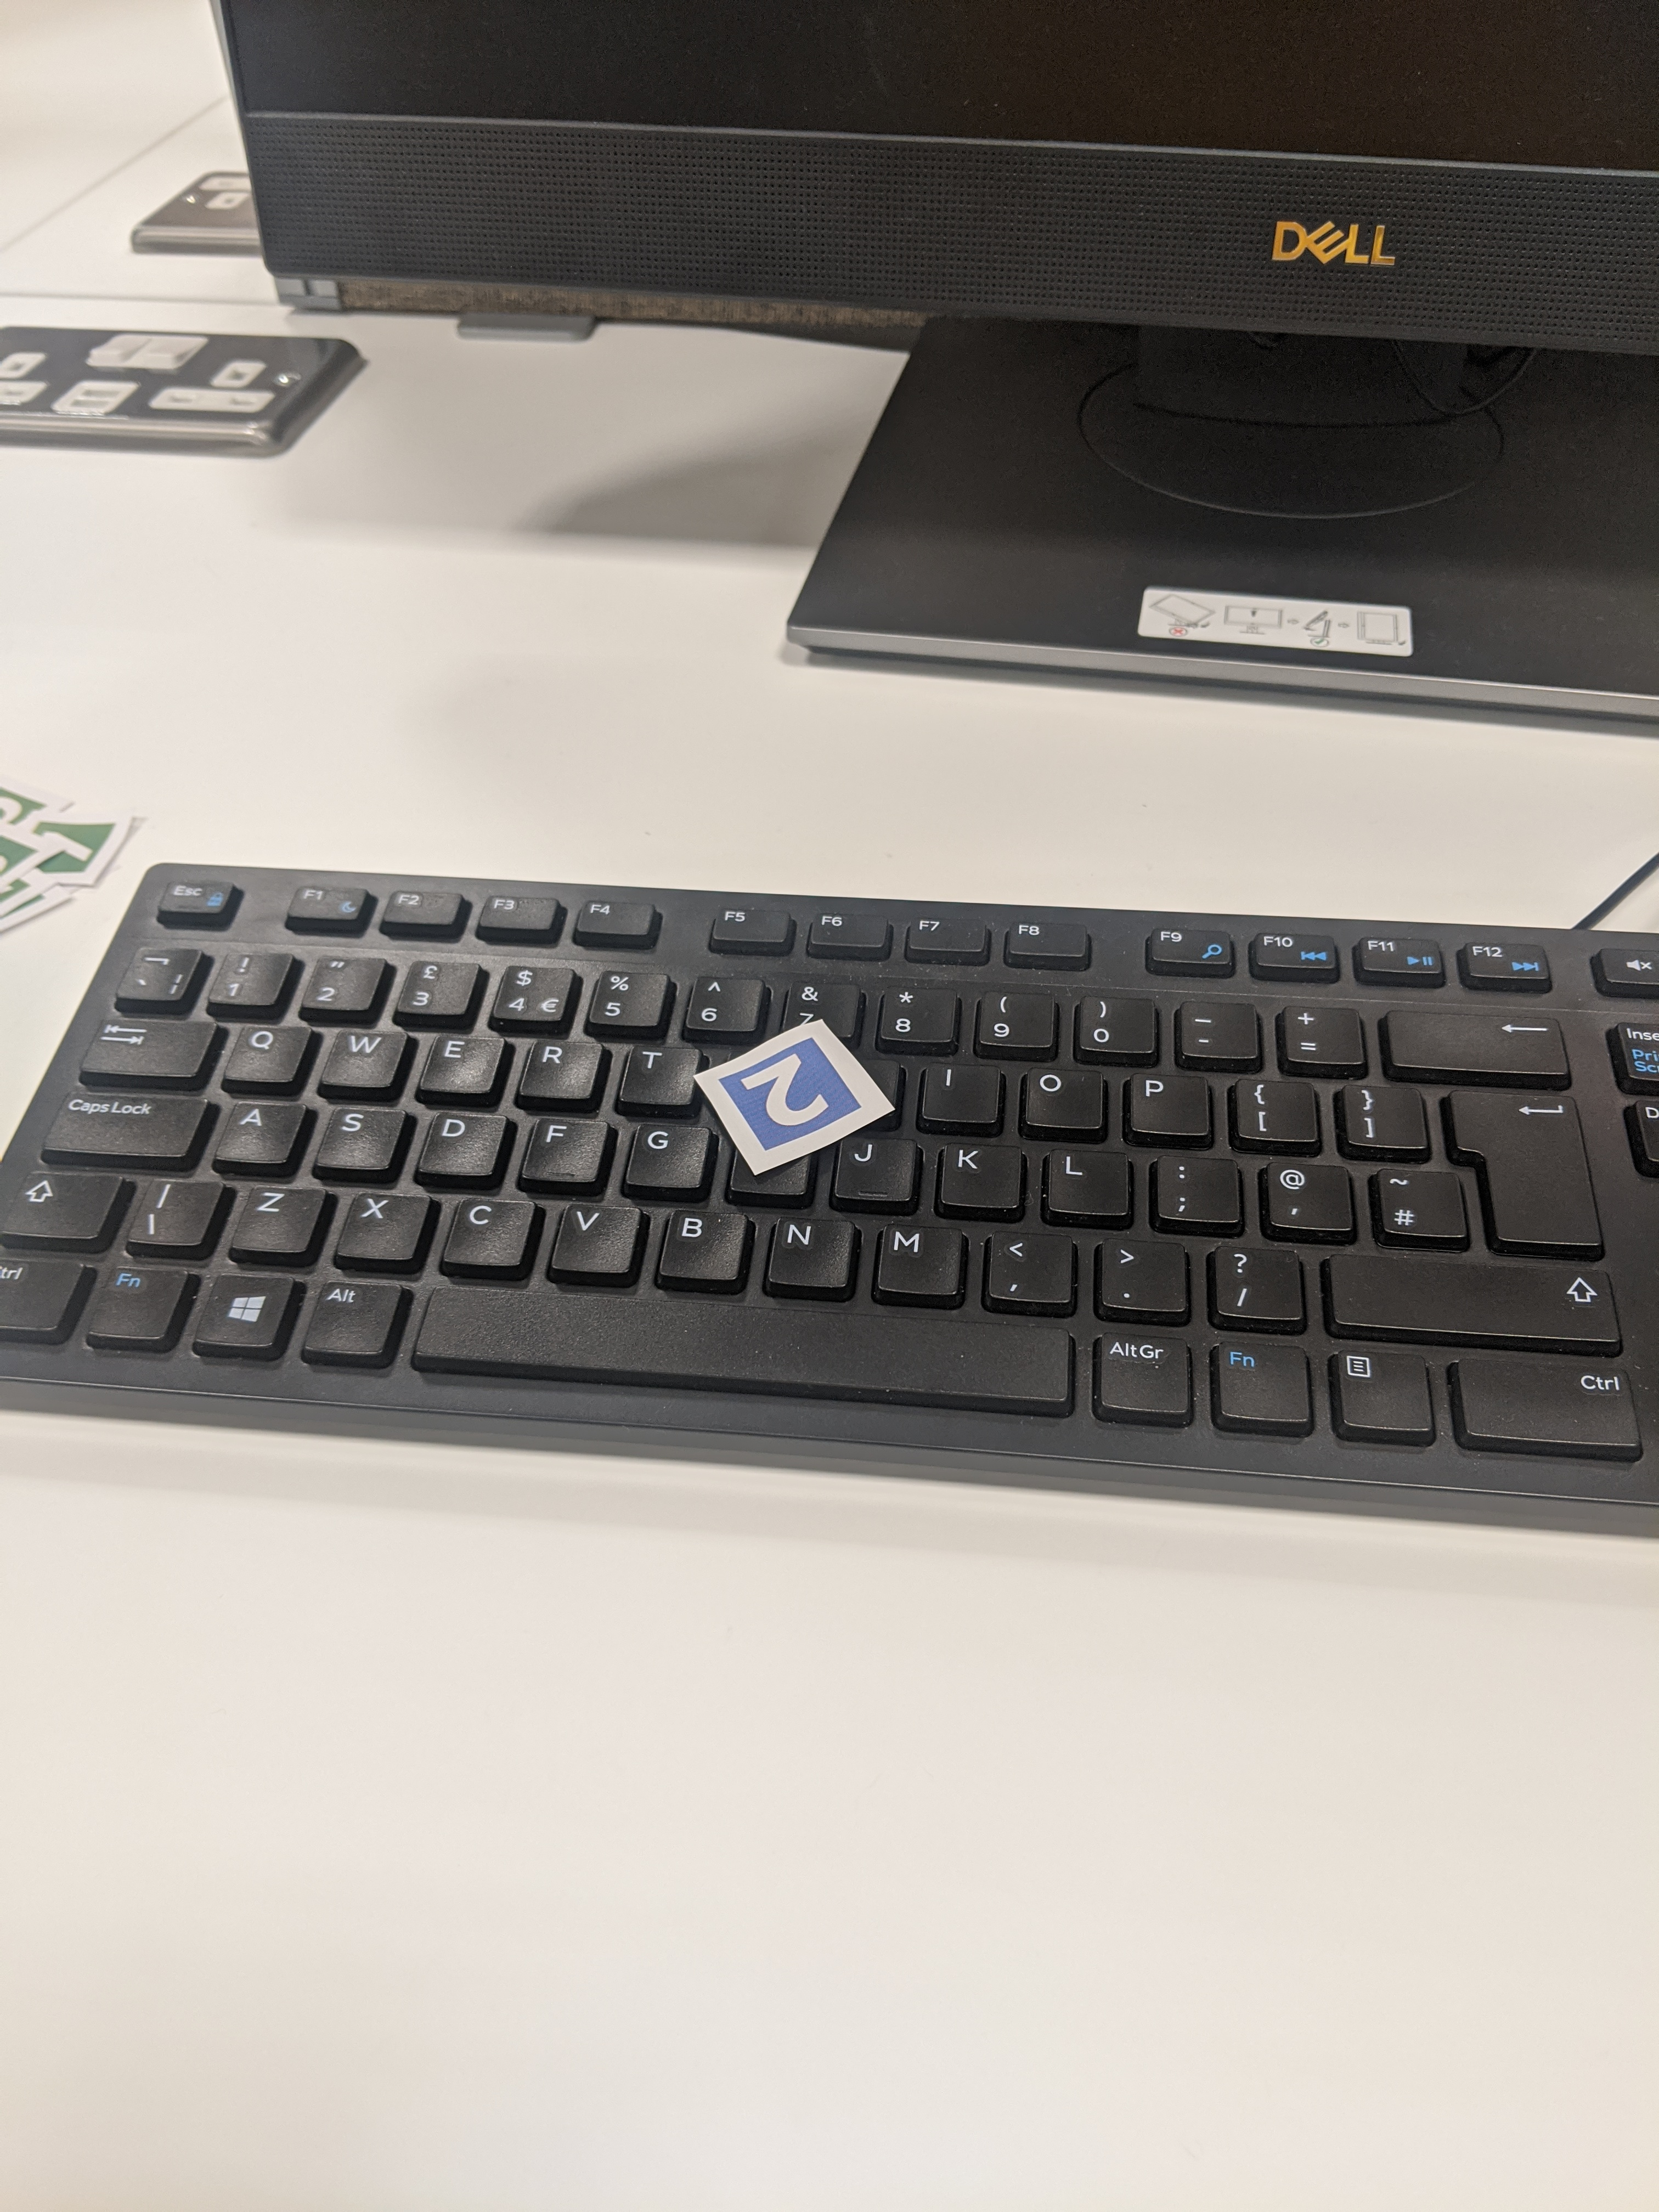marker: (681, 1028, 897, 1174)
